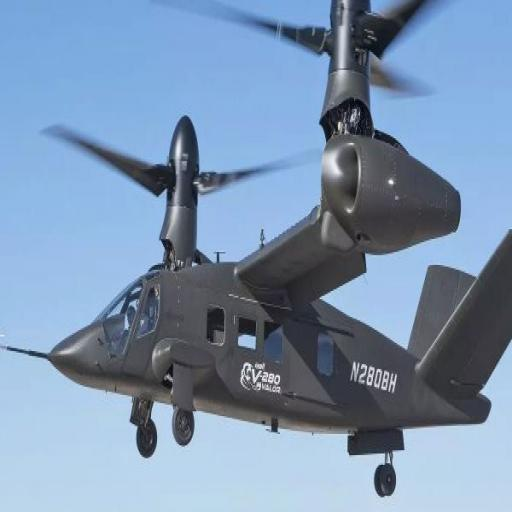helicopter: (26, 12, 512, 504)
